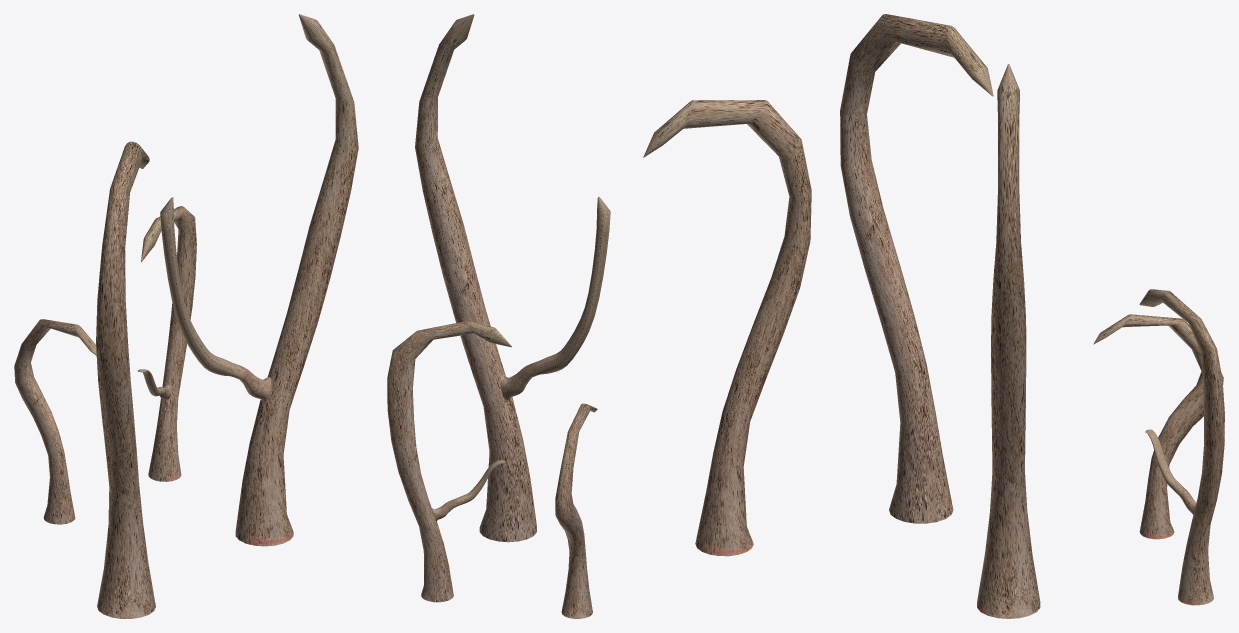
Rendered from SM_Roots.fbx.
3 views of the same model, side by side, from view 1: azimuth 30°, elevation 25°; view 2: azimuth 150°, elevation 25°; view 3: azimuth 270°, elevation 25° (orthographic). The views are drawn at different scales.
Parts seen in each view (by area): view 1: SM_Roots; view 2: SM_Roots; view 3: SM_Roots.
Part boxes in pixels (left/top/right/bottom): SM_Roots: left=14, top=14, right=358, bottom=618; SM_Roots: left=387, top=14, right=811, bottom=618; SM_Roots: left=840, top=14, right=1224, bottom=618.
Size of the model in its own units: 2.5 by 3.73 by 2.33.
Materials: 1 (1 with a texture image).
